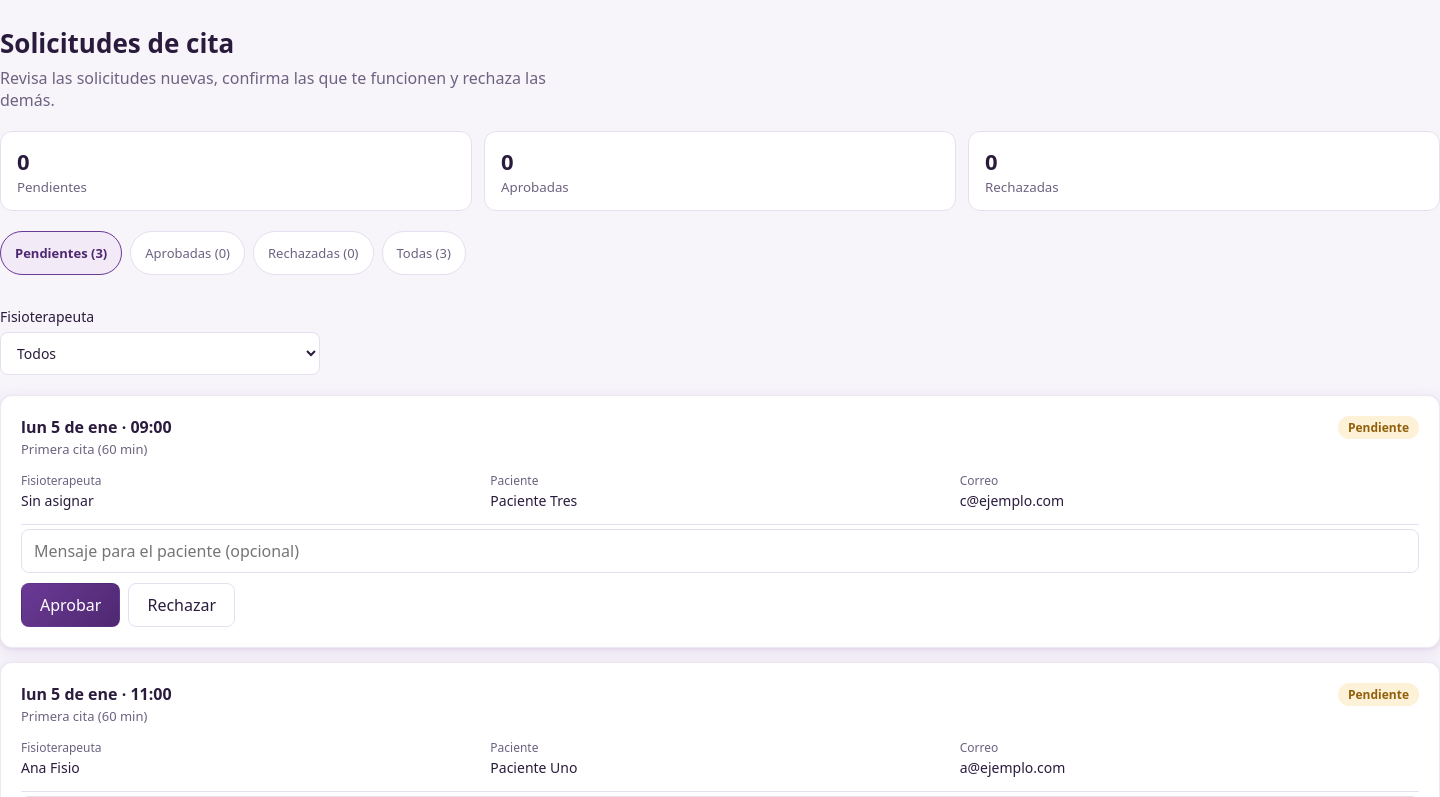
Scenario: Approvals therapist scope and Revisar flag › filters by therapist for admin/front desk and updates the counts
Select "Ana Fisio" in the dropdown labelled "Fisioterapeuta" at [160, 354], box [0,332,320,375]
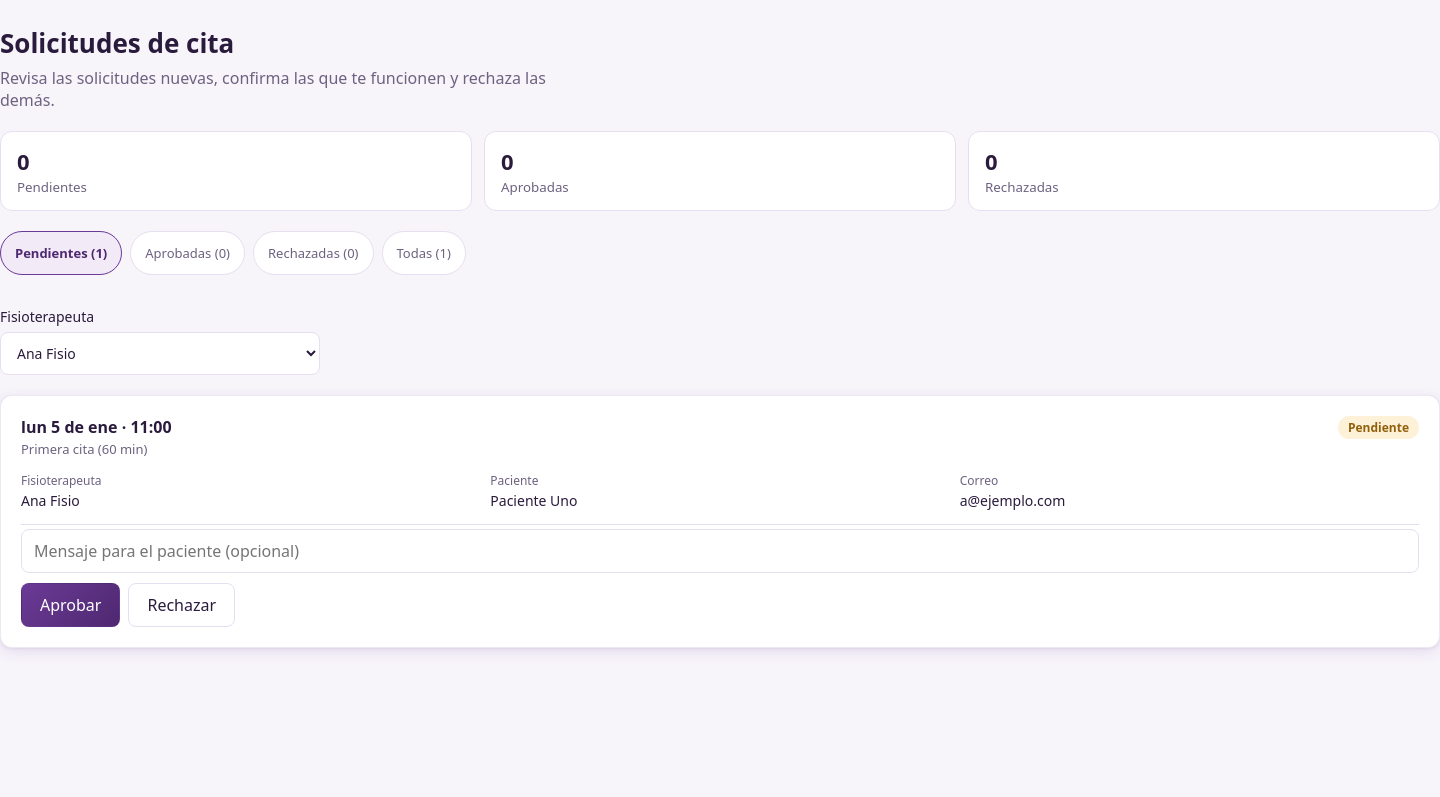
Expected: the text "Paciente Uno" is shown, [490,491,578,510]
Result: the text "Paciente Tres" is gone
Select "Sin asignar" in the dropdown labelled "Fisioterapeuta" at [160, 354], box [0,332,320,375]
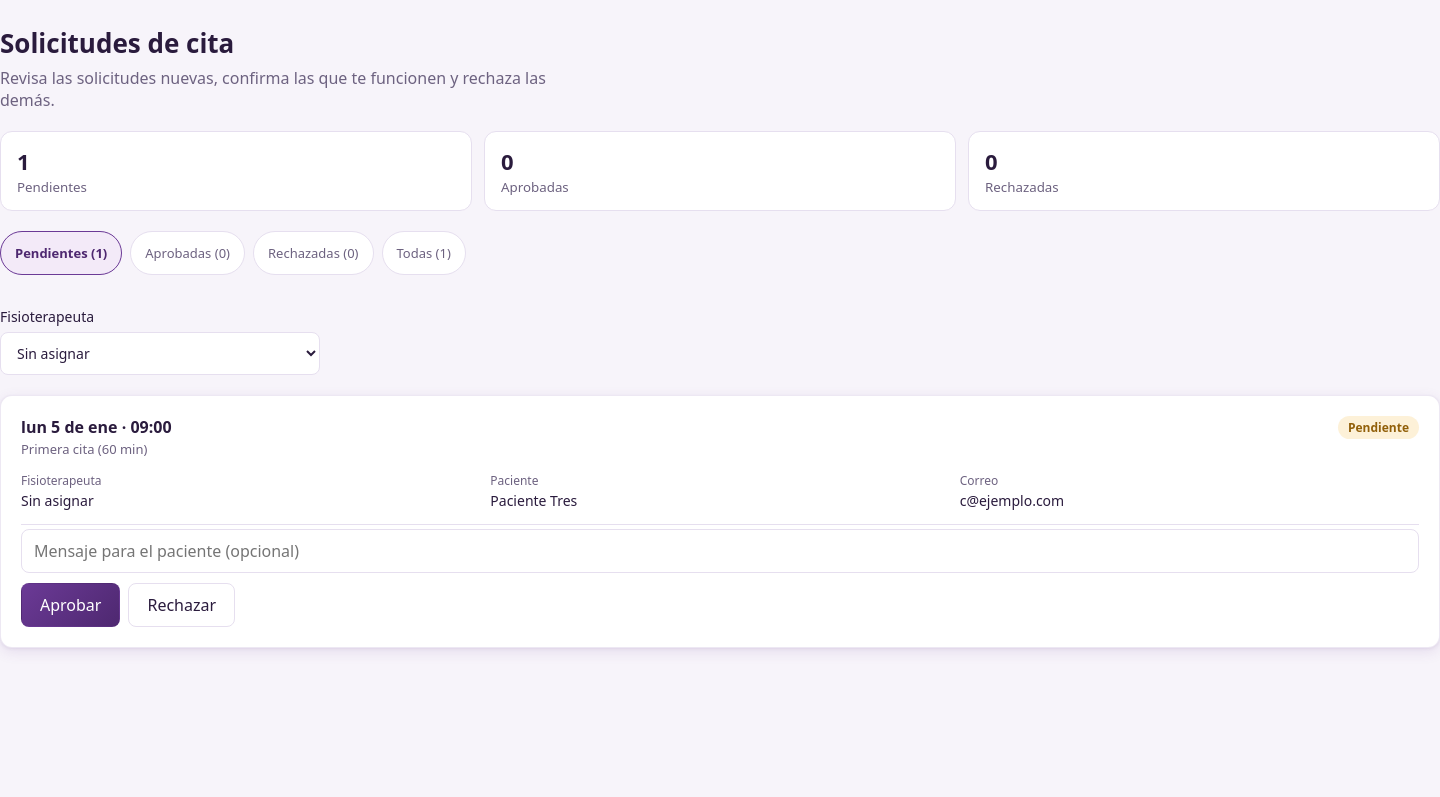
Result: the text "Paciente Tres" is shown at [490,491,577,510]
Result: the text "Paciente Uno" is gone
